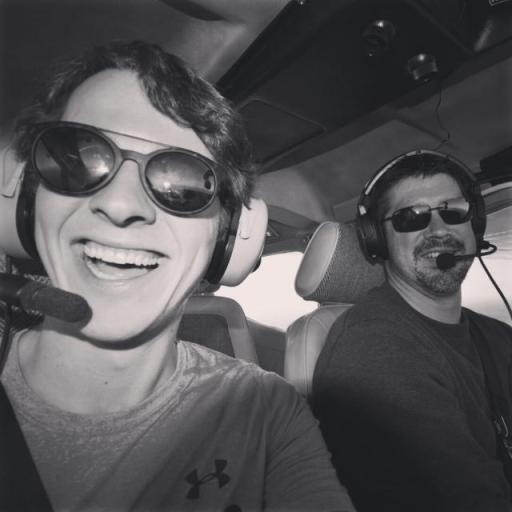Under Armour: (182, 454, 232, 502)
